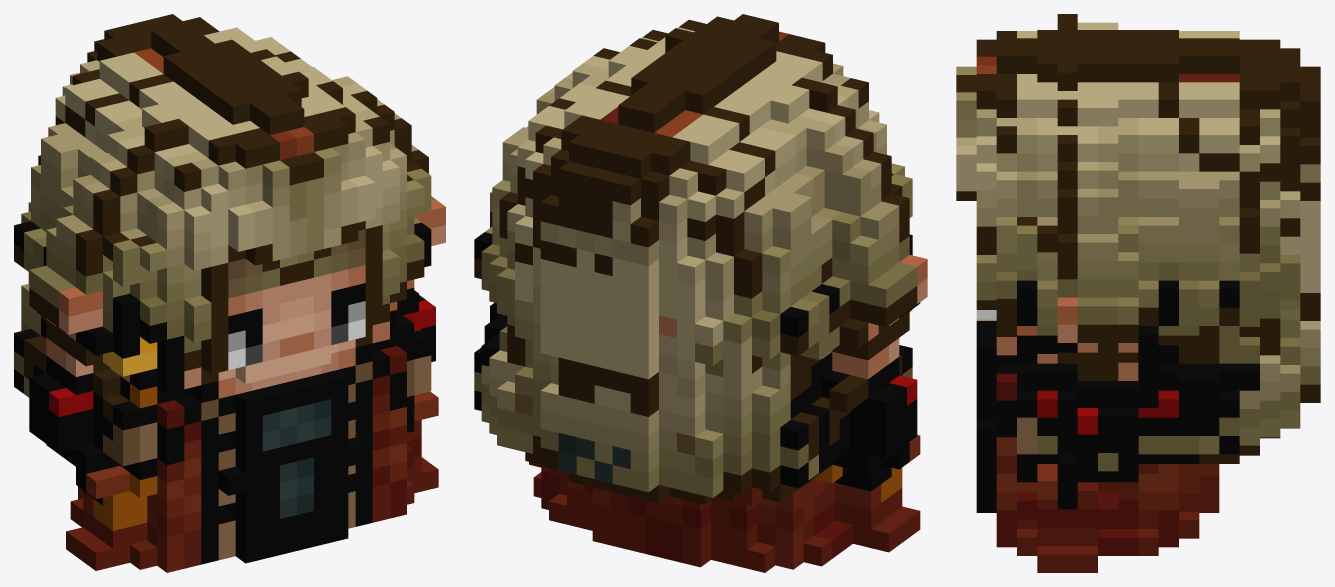
The model's file is Icon_212_01.obj.
The picture shows the model from 3 angles, left to right: view 1: azimuth 30°, elevation 25°; view 2: azimuth 150°, elevation 25°; view 3: azimuth 270°, elevation 25°; orthographic projection. The views are drawn at different scales.
Size of the model in its own units: 2.2 by 2.4 by 1.8.
